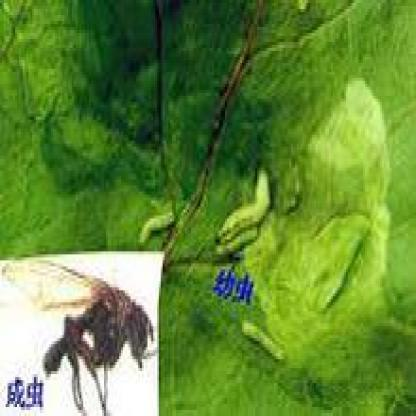whorl-maggot: (210, 163, 274, 260), (237, 312, 294, 374), (137, 198, 180, 247)
